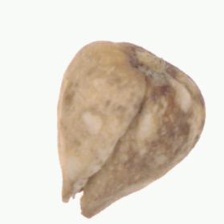L1: (123, 39, 178, 85), (60, 183, 94, 218)
L2: (56, 40, 207, 219)
